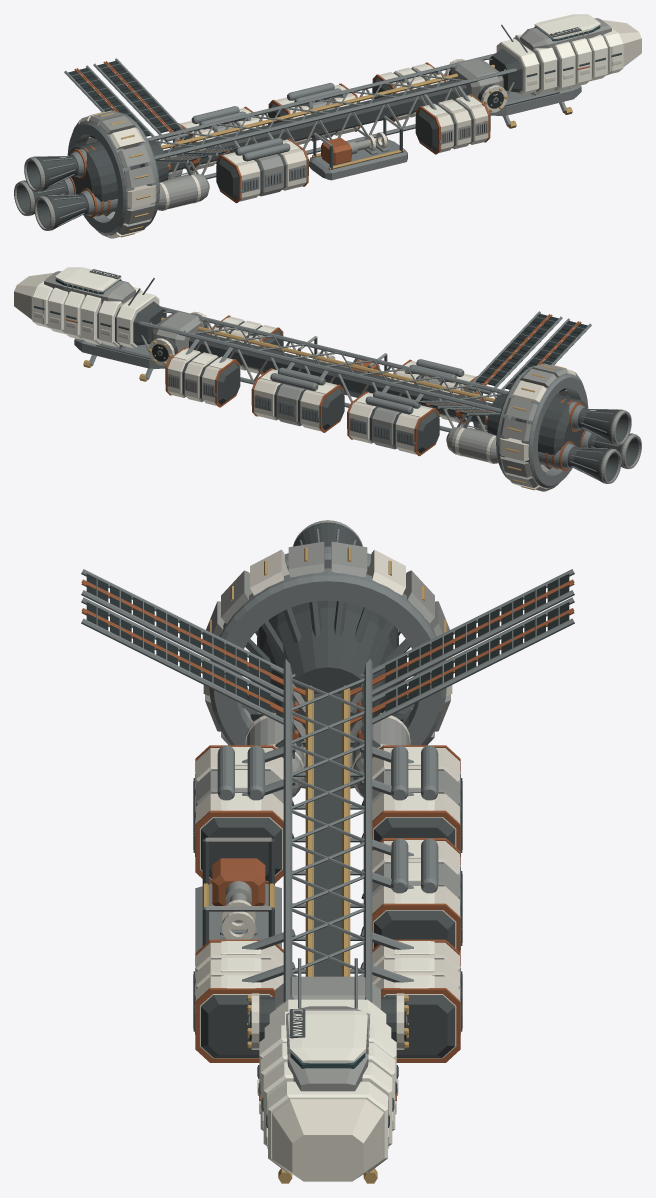
File: caravan-v002.glb
The picture shows the model from 3 angles, top to bottom: view 1: azimuth 30°, elevation 25°; view 2: azimuth 150°, elevation 25°; view 3: azimuth 270°, elevation 25°; orthographic projection. The views are drawn at different scales.
Visible parts, largest first — view 1: caravan-load-spine, caravan-forward-habitat, caravan-fusion-manoeuvring-bank, caravan-interstellar-drive-yoke, caravan-precision-workshop-aft-starboard, caravan-freight-cassette-fore-starboard, caravan-seed-industry-open-process-bed, caravan-radiator-port-fore, caravan-docking-transfer-node, caravan-reaction-mass-and-transfer, caravan-precision-workshop-mid-port, caravan-radiator-port-aft (+4 smaller); view 2: caravan-load-spine, caravan-forward-habitat, caravan-fusion-manoeuvring-bank, caravan-interstellar-drive-yoke, caravan-precision-workshop-mid-port, caravan-precision-workshop-aft-port, caravan-freight-cassette-fore-port, caravan-radiator-starboard-fore, caravan-docking-transfer-node, caravan-reaction-mass-and-transfer, caravan-radiator-starboard-aft, caravan-precision-workshop-aft-starboard (+4 smaller); view 3: caravan-forward-habitat, caravan-load-spine, caravan-interstellar-drive-yoke, caravan-precision-workshop-aft-starboard, caravan-fusion-manoeuvring-bank, caravan-precision-workshop-mid-port, caravan-precision-workshop-aft-port, caravan-freight-cassette-fore-port, caravan-freight-cassette-fore-starboard, caravan-seed-industry-open-process-bed, caravan-radiator-port-fore, caravan-radiator-starboard-fore (+6 smaller).
Boxes of the visible parts, box(x1,y1,x2,y2) form: caravan-load-spine: box(147, 53, 571, 179); caravan-forward-habitat: box(489, 14, 641, 128); caravan-fusion-manoeuvring-bank: box(14, 140, 168, 230); caravan-interstellar-drive-yoke: box(67, 110, 159, 238); caravan-precision-workshop-aft-starboard: box(216, 137, 308, 203); caravan-freight-cassette-fore-starboard: box(415, 94, 490, 154); caravan-seed-industry-open-process-bed: box(309, 115, 407, 180); caravan-radiator-port-fore: box(93, 58, 188, 144); caravan-docking-transfer-node: box(445, 58, 507, 112); caravan-reaction-mass-and-transfer: box(157, 163, 209, 210); caravan-precision-workshop-mid-port: box(268, 83, 360, 144); caravan-radiator-port-aft: box(64, 65, 158, 143); caravan-load-spine: box(84, 306, 508, 432); caravan-forward-habitat: box(14, 267, 166, 381); caravan-fusion-manoeuvring-bank: box(487, 393, 641, 483); caravan-interstellar-drive-yoke: box(496, 363, 588, 491); caravan-precision-workshop-mid-port: box(251, 367, 344, 432); caravan-precision-workshop-aft-port: box(347, 390, 439, 456); caravan-freight-cassette-fore-port: box(165, 347, 240, 407); caravan-radiator-starboard-fore: box(467, 311, 562, 397); caravan-docking-transfer-node: box(148, 311, 210, 365); caravan-reaction-mass-and-transfer: box(446, 416, 498, 463); caravan-radiator-starboard-aft: box(497, 318, 591, 396); caravan-precision-workshop-aft-starboard: box(391, 359, 482, 424); caravan-forward-habitat: box(257, 958, 398, 1183); caravan-load-spine: box(283, 658, 372, 1002); caravan-interstellar-drive-yoke: box(201, 541, 454, 788); caravan-precision-workshop-aft-starboard: box(193, 745, 283, 883); caravan-fusion-manoeuvring-bank: box(255, 520, 400, 747); caravan-precision-workshop-mid-port: box(372, 838, 462, 952); caravan-precision-workshop-aft-port: box(372, 745, 462, 856); caravan-freight-cassette-fore-port: box(372, 939, 462, 1062); caravan-freight-cassette-fore-starboard: box(193, 939, 283, 1062); caravan-seed-industry-open-process-bed: box(195, 837, 281, 952); caravan-radiator-port-fore: box(350, 597, 574, 726); caravan-radiator-starboard-fore: box(81, 597, 305, 726).
Size of the model in its own units: 536 by 97.16 by 191.
Materials: 1 (1 with a texture image).
